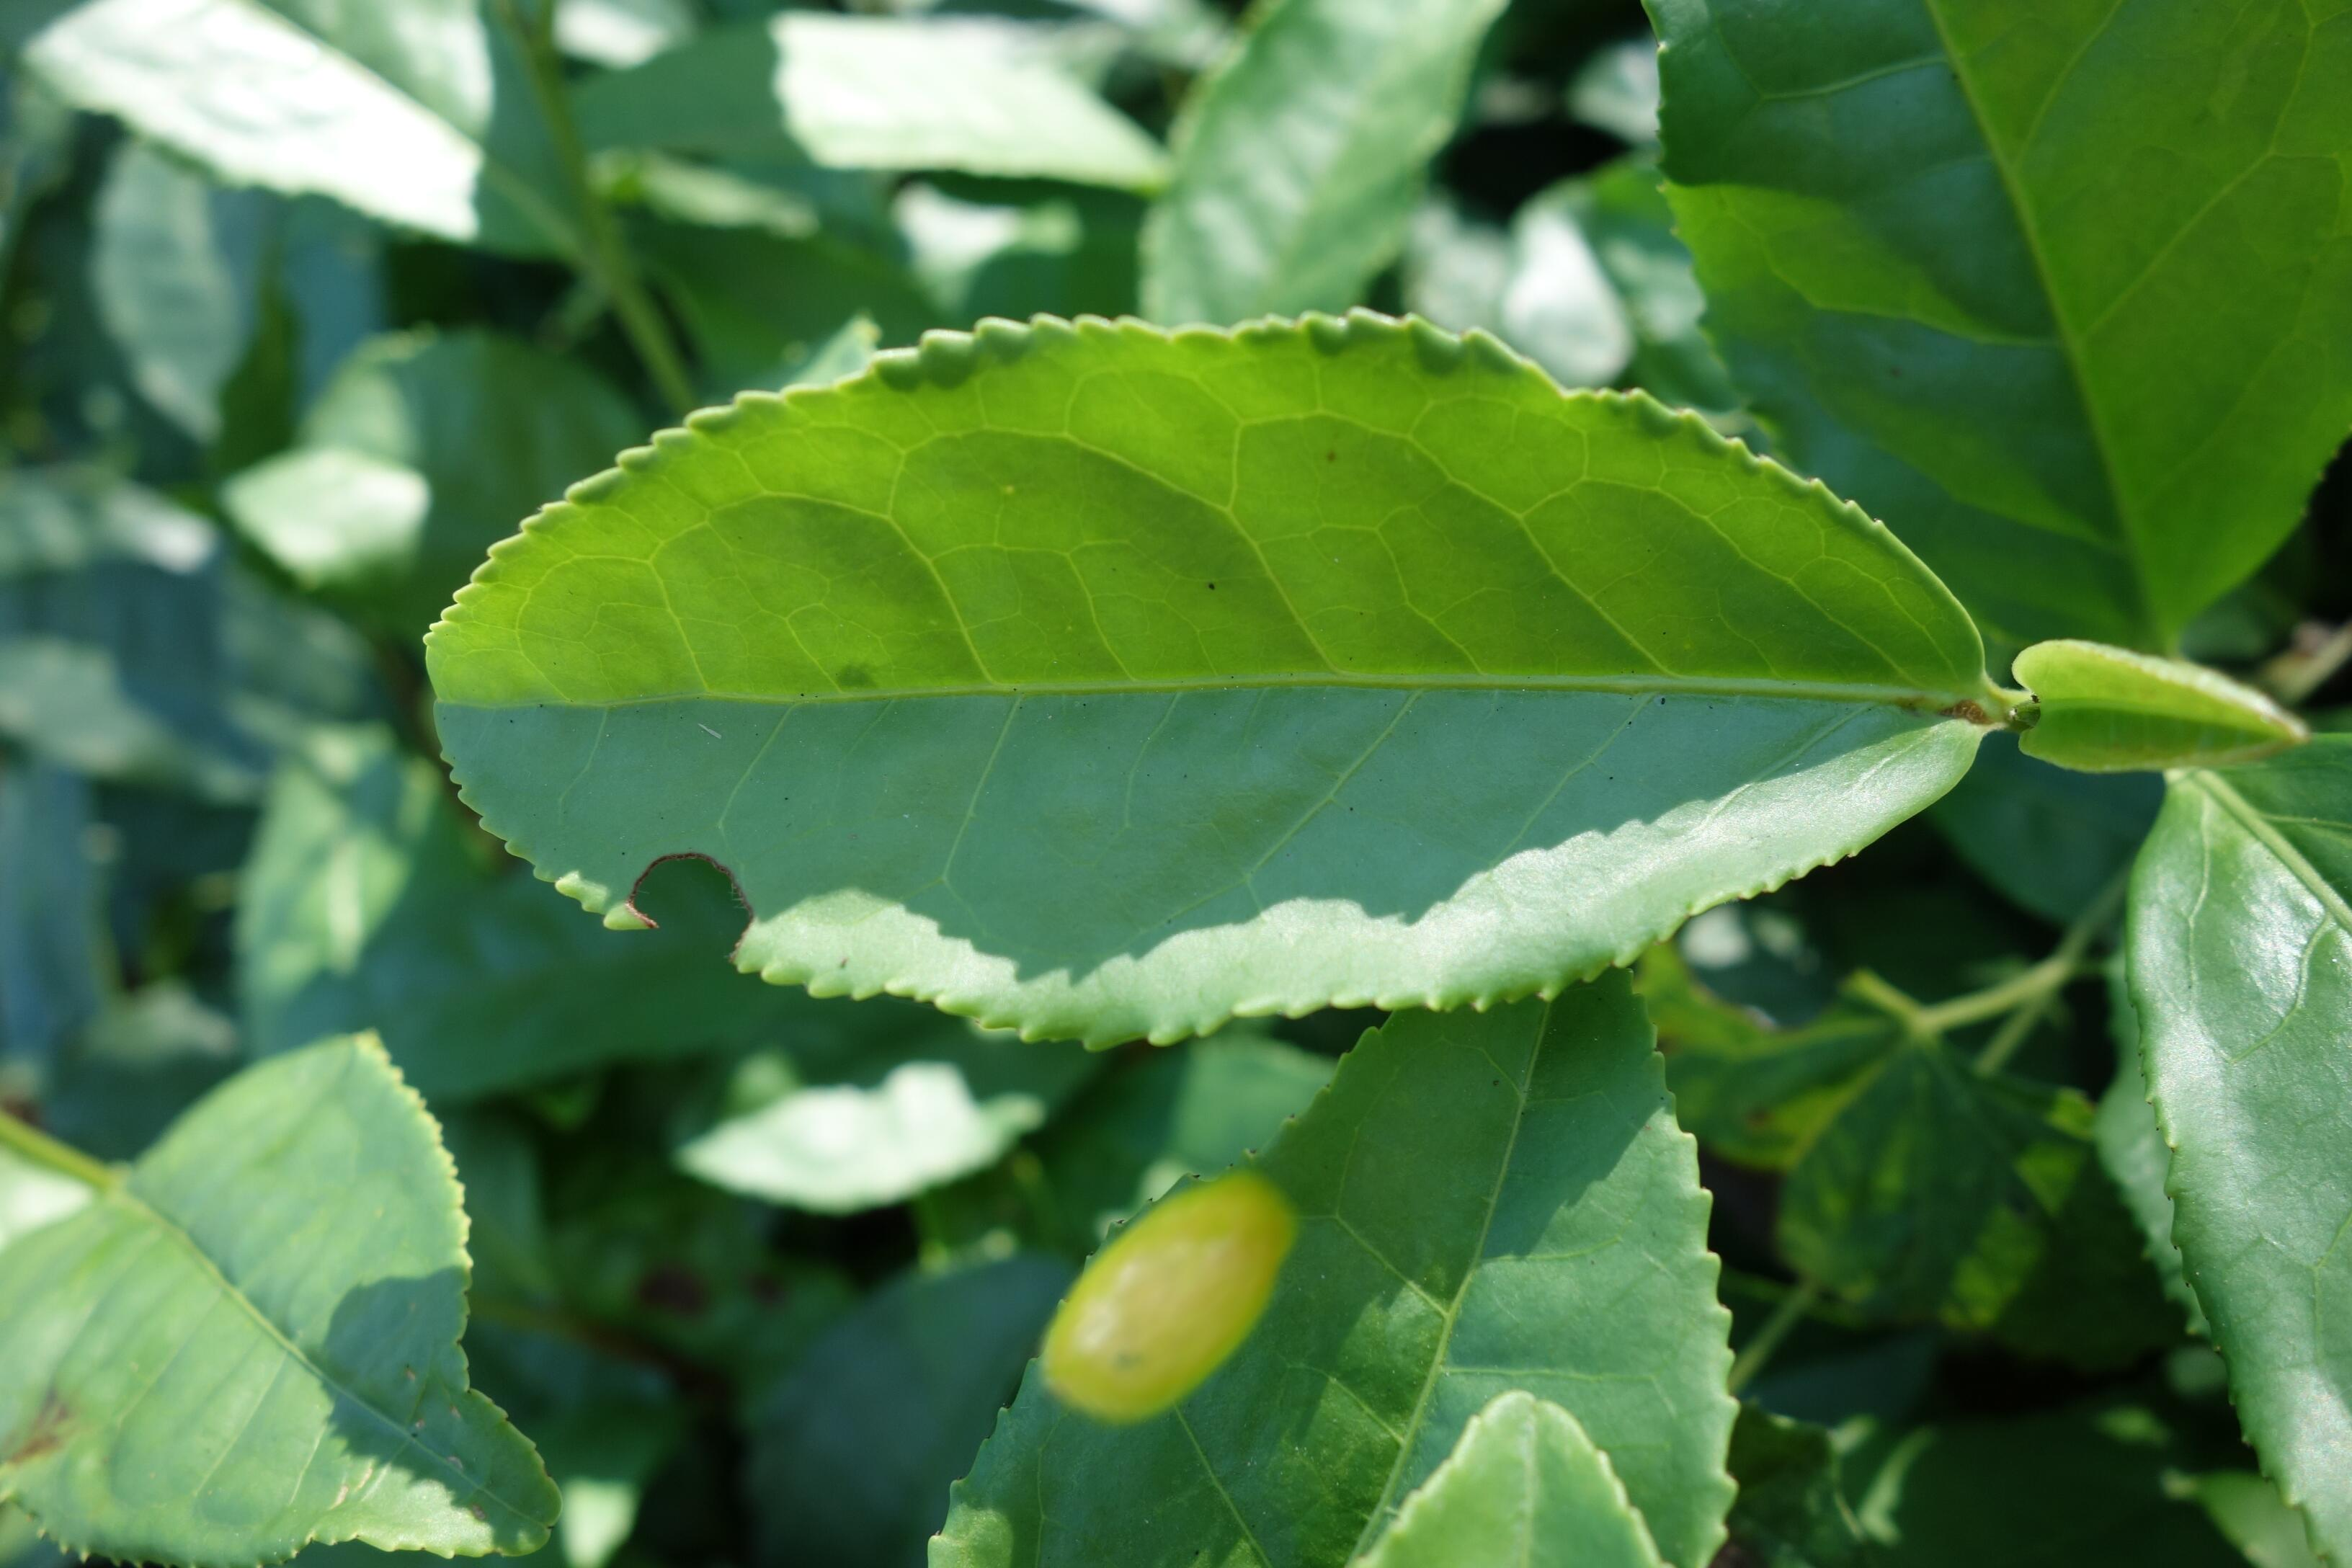chabing_low: (934, 989, 1738, 1564)
chihuo_low: (429, 308, 1995, 1052)
